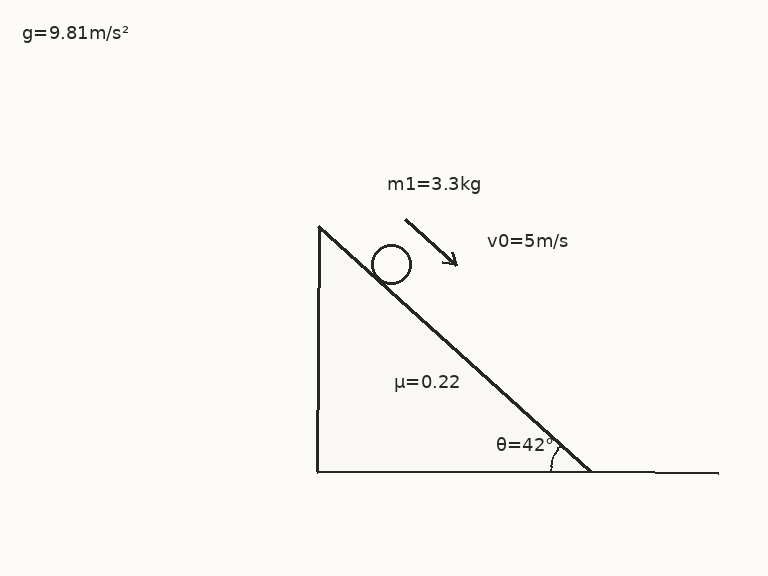ball: (369, 242, 413, 286)
ramp: (316, 223, 593, 473)
